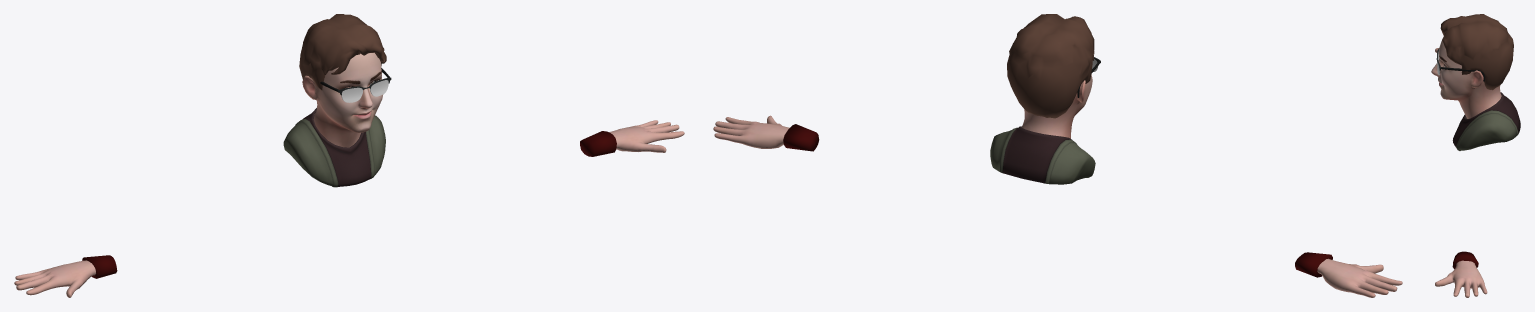
Rendered from avatar.gltf.
3 views of the same model, side by side, from view 1: azimuth 30°, elevation 25°; view 2: azimuth 150°, elevation 25°; view 3: azimuth 270°, elevation 25° (orthographic). The views are drawn at different scales.
Visible parts, largest first — view 1: Wolf3D_Hands, Wolf3D_Shirt, Wolf3D_Head, Wolf3D_Hair, Wolf3D_Glasses; view 2: Wolf3D_Hair, Wolf3D_Hands, Wolf3D_Shirt, Wolf3D_Head; view 3: Wolf3D_Hair, Wolf3D_Shirt, Wolf3D_Head, Wolf3D_Hands, Wolf3D_Glasses.
Boxes of the visible parts, <box> form: Wolf3D_Hands: <box>14,120,684,297</box>; Wolf3D_Shirt: <box>283,108,385,187</box>; Wolf3D_Head: <box>302,52,383,147</box>; Wolf3D_Hair: <box>299,14,386,90</box>; Wolf3D_Glasses: <box>320,68,391,102</box>; Wolf3D_Hair: <box>1007,14,1094,118</box>; Wolf3D_Hands: <box>713,115,1402,297</box>; Wolf3D_Shirt: <box>990,126,1095,184</box>; Wolf3D_Head: <box>1021,74,1092,138</box>; Wolf3D_Hair: <box>1440,14,1513,90</box>; Wolf3D_Shirt: <box>1452,92,1520,150</box>; Wolf3D_Head: <box>1431,36,1501,118</box>; Wolf3D_Hands: <box>1435,48,1487,297</box>; Wolf3D_Glasses: <box>1436,48,1485,81</box>.
Size of the model in its own units: 1.67 by 0.4589 by 0.2422.
8 materials, 8 textured.
